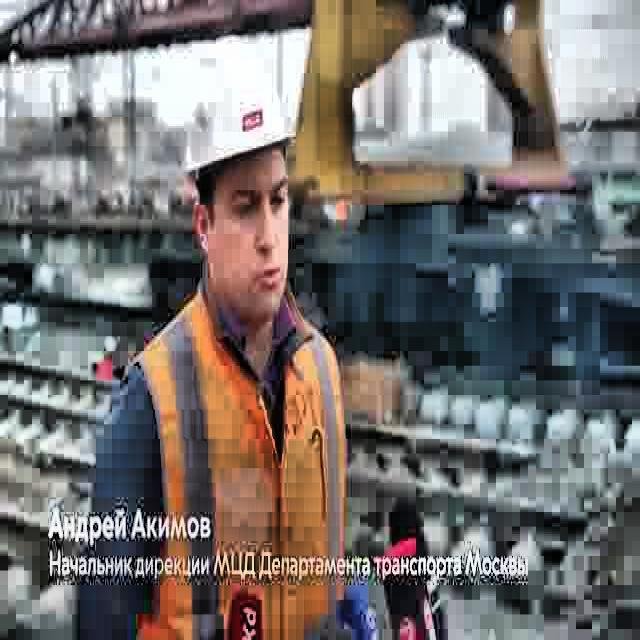safety_helmet: (182, 42, 296, 179)
safety_jacket: (118, 274, 347, 640)
